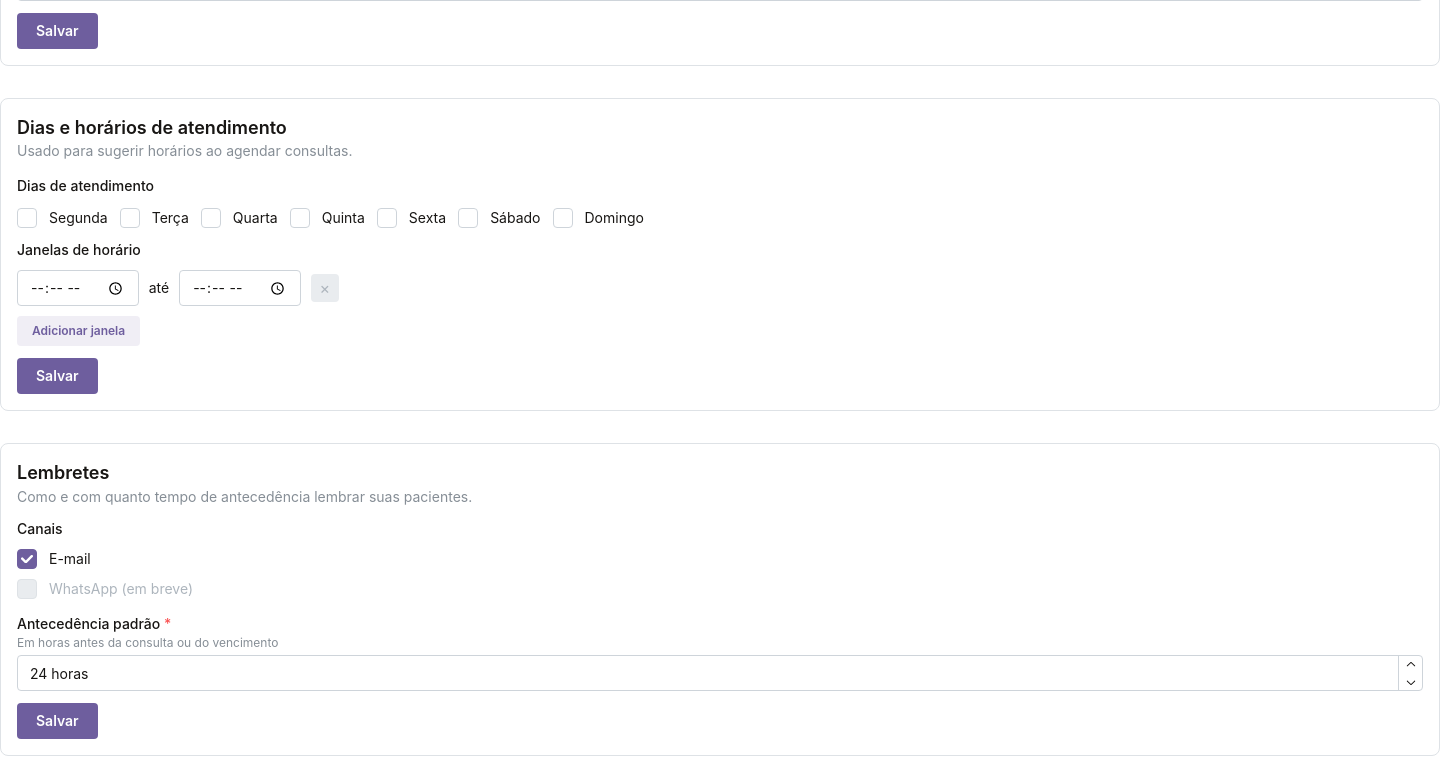
Test: SettingsPage › seção atendimento: valida dias e janelas obrigatórios antes de salvar
(page scrolled)
Expected: the element with test id "settings-section-horarios" is shown, top-left (0, 98), bottom-right (1439, 412)
Click the submit button. click: (57,376)
box: top-left (17, 358), bottom-right (98, 394)
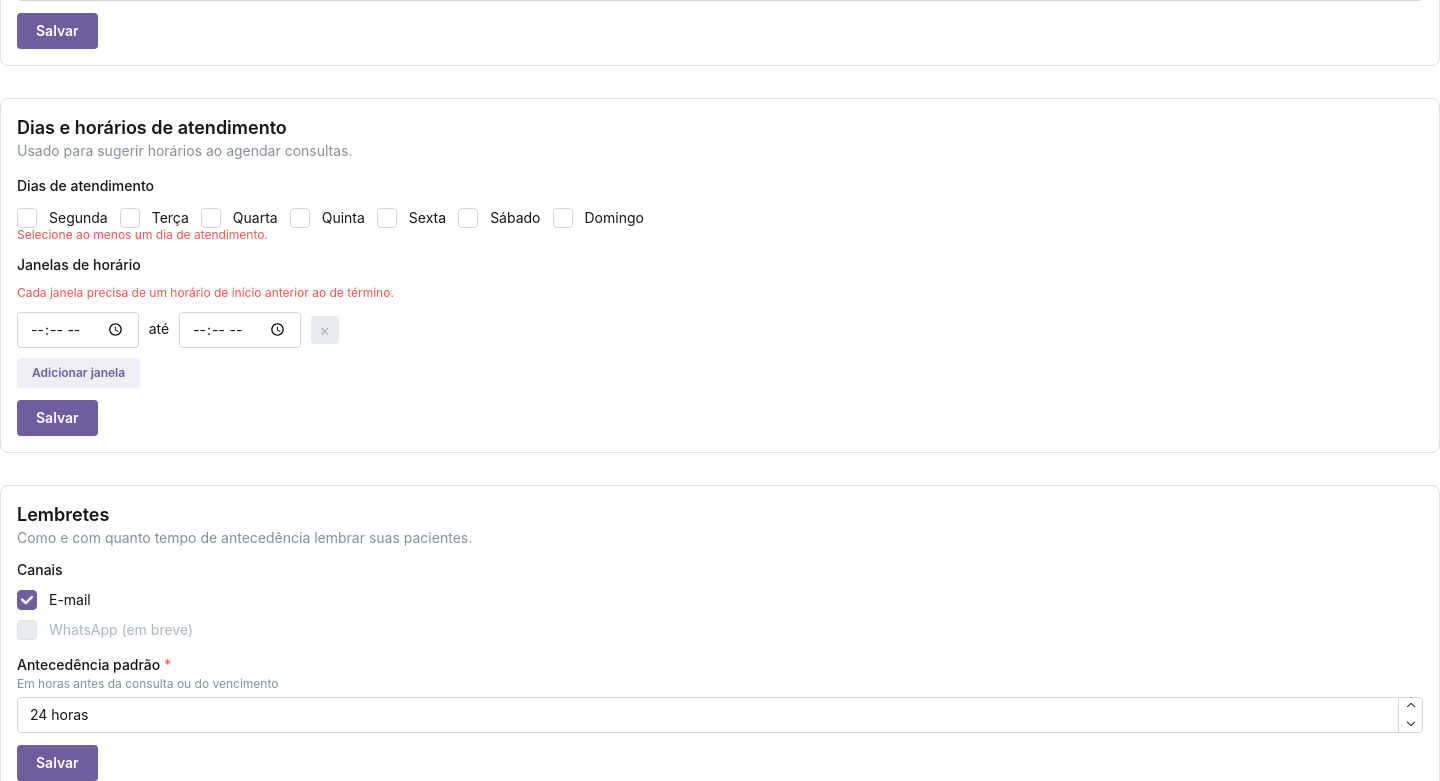
Expected: the text "Selecione ao menos um dia de atendimento." is shown, top-left (17, 227), bottom-right (268, 242)
